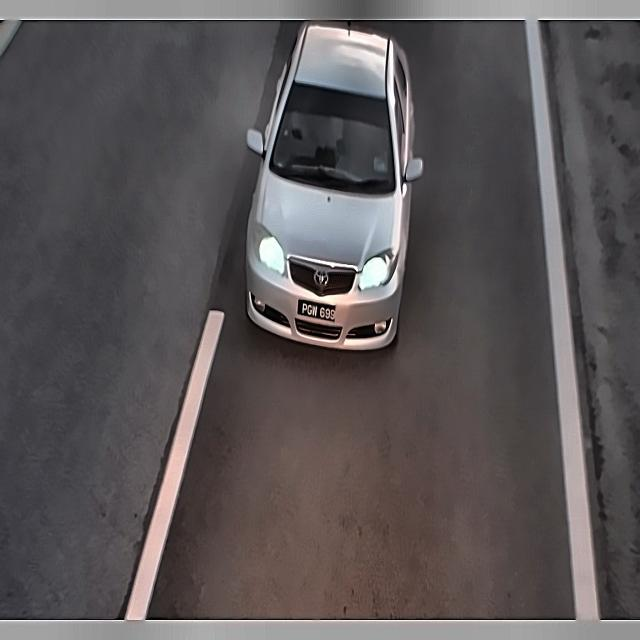car: (296, 290, 346, 334)
